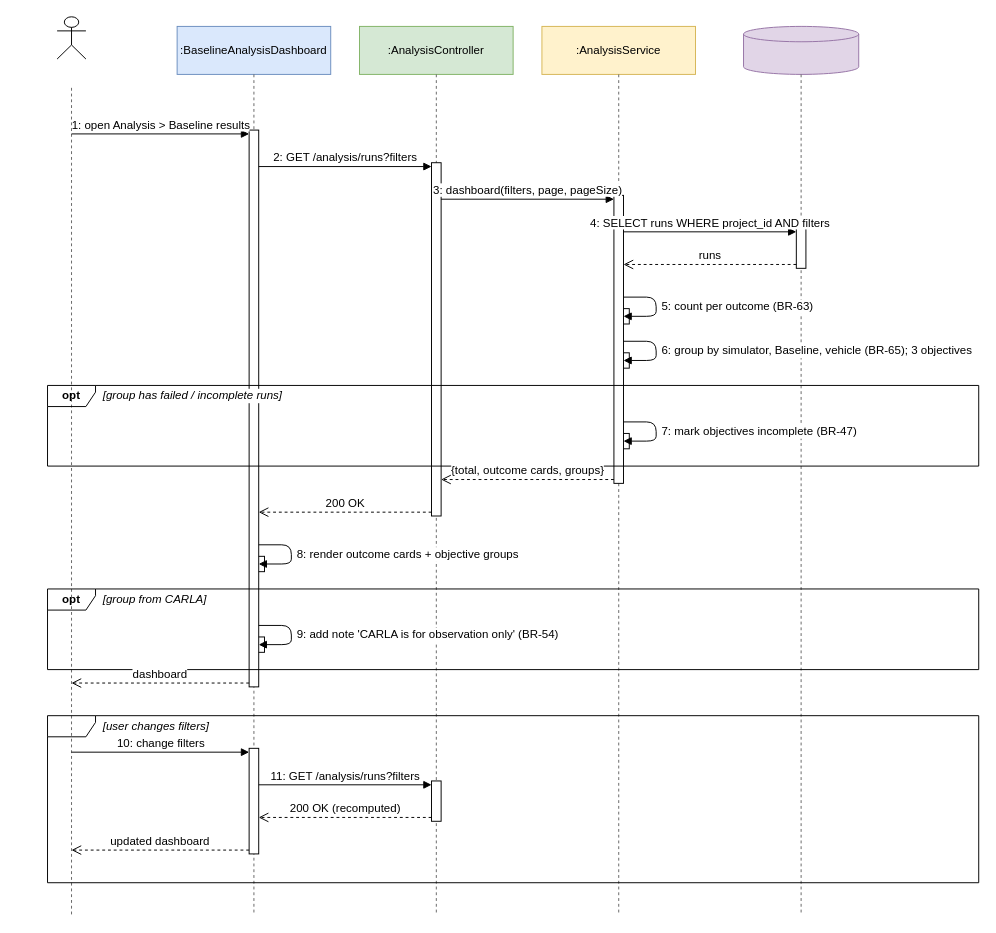
Image size: 996x933. Some labels were removed from this diagram. Each missing label, with the box of its shape:
Engineer / Reviewer / Experiencer: (56, 16, 86, 59)
loop: (47, 715, 979, 883)
MySQL: (743, 25, 859, 74)
